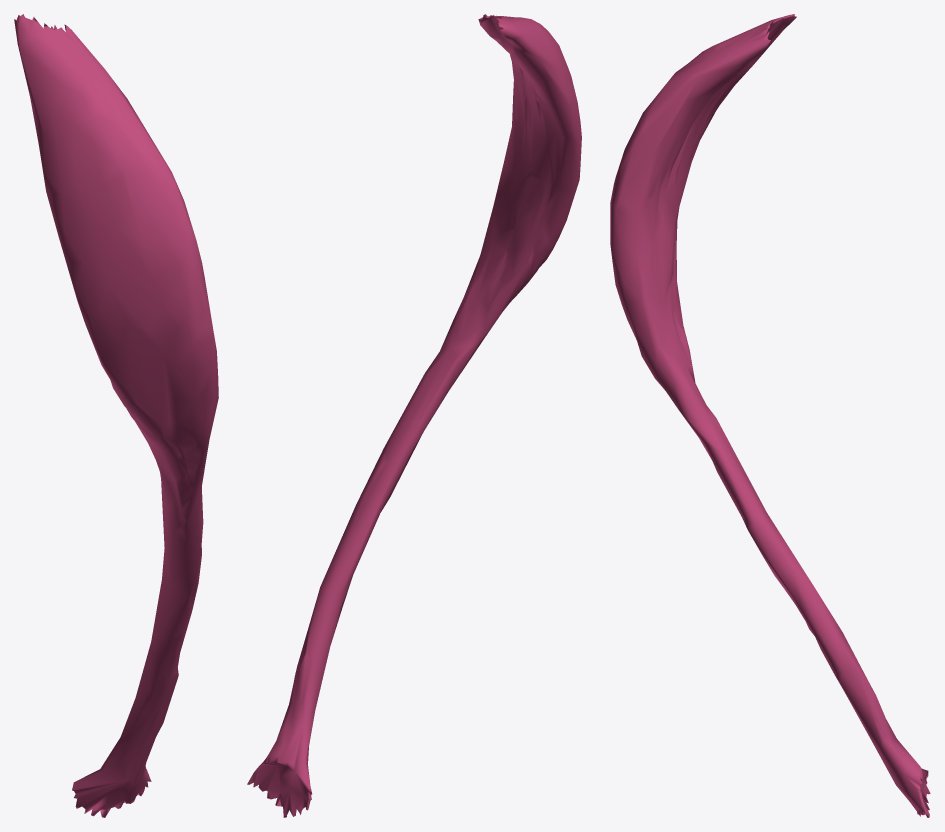
3 renders of one model, left to right at view 1: azimuth 30°, elevation 25°; view 2: azimuth 150°, elevation 25°; view 3: azimuth 270°, elevation 25°, orthographic. The views are drawn at different scales.
Visible parts, largest first — view 1: 右侧踇短伸肌; view 2: 右侧踇短伸肌; view 3: 右侧踇短伸肌.
Boxes of the visible parts, bbox=[...] form: 右侧踇短伸肌: bbox=[14, 14, 218, 817]; 右侧踇短伸肌: bbox=[247, 14, 581, 817]; 右侧踇短伸肌: bbox=[610, 14, 930, 817].
Bounding box in the file's own units: 0.0499 × 0.1795 × 0.0706.
